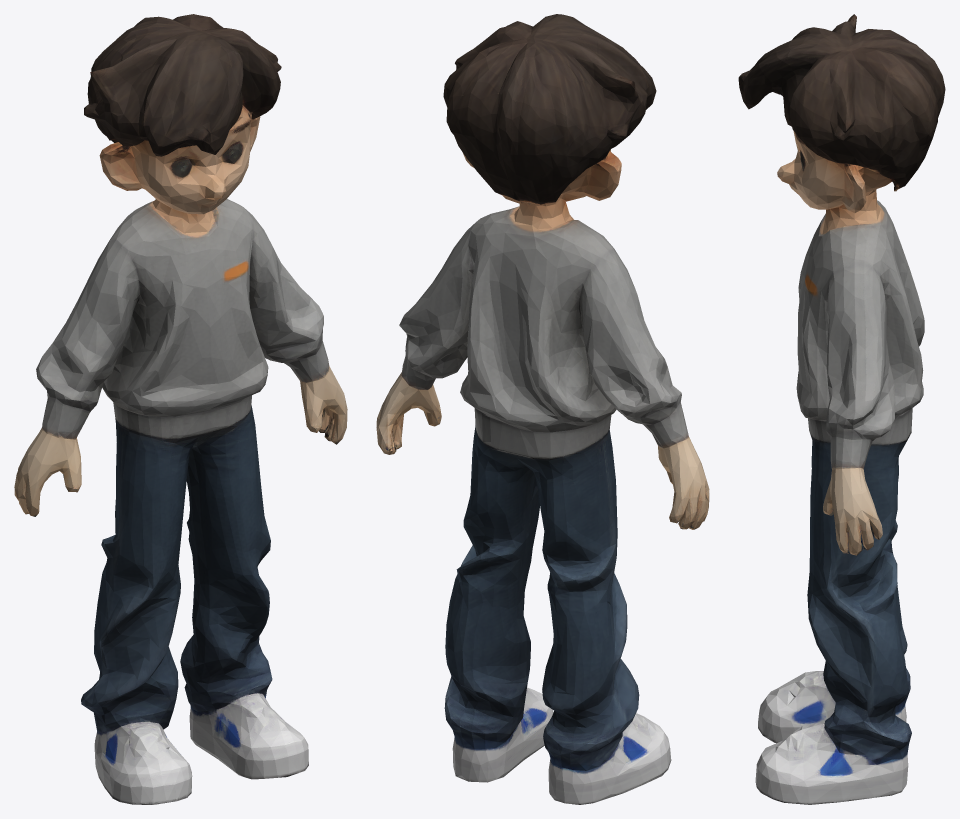
File: player_boy_sam3d.glb
The picture shows the model from 3 angles, left to right: view 1: azimuth 30°, elevation 25°; view 2: azimuth 150°, elevation 25°; view 3: azimuth 270°, elevation 25°; orthographic projection.
Visible parts, largest first — view 1: geometry_0; view 2: geometry_0; view 3: geometry_0.
Boxes of the visible parts, x1,y1,x2,y2 form: geometry_0: (14, 14, 347, 804); geometry_0: (376, 14, 709, 804); geometry_0: (738, 14, 945, 804).
Bounding box in the file's own units: 0.4633 × 0.9984 × 0.2585.
1 material, 1 textured.
